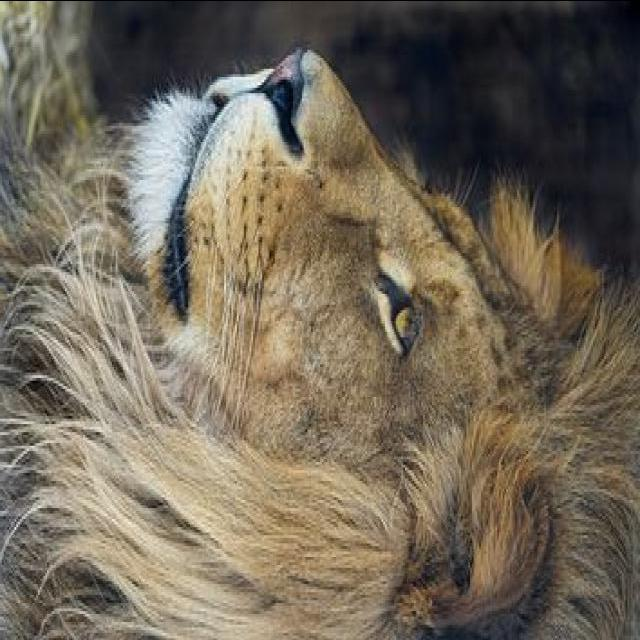lions: (0, 1, 640, 640)
